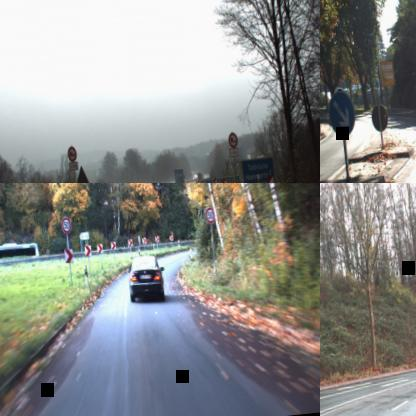keep right: (326, 88, 357, 138)
no overtaking: (227, 132, 238, 148), (66, 145, 76, 162)
speed limit 50: (60, 216, 72, 233), (204, 206, 215, 223)
